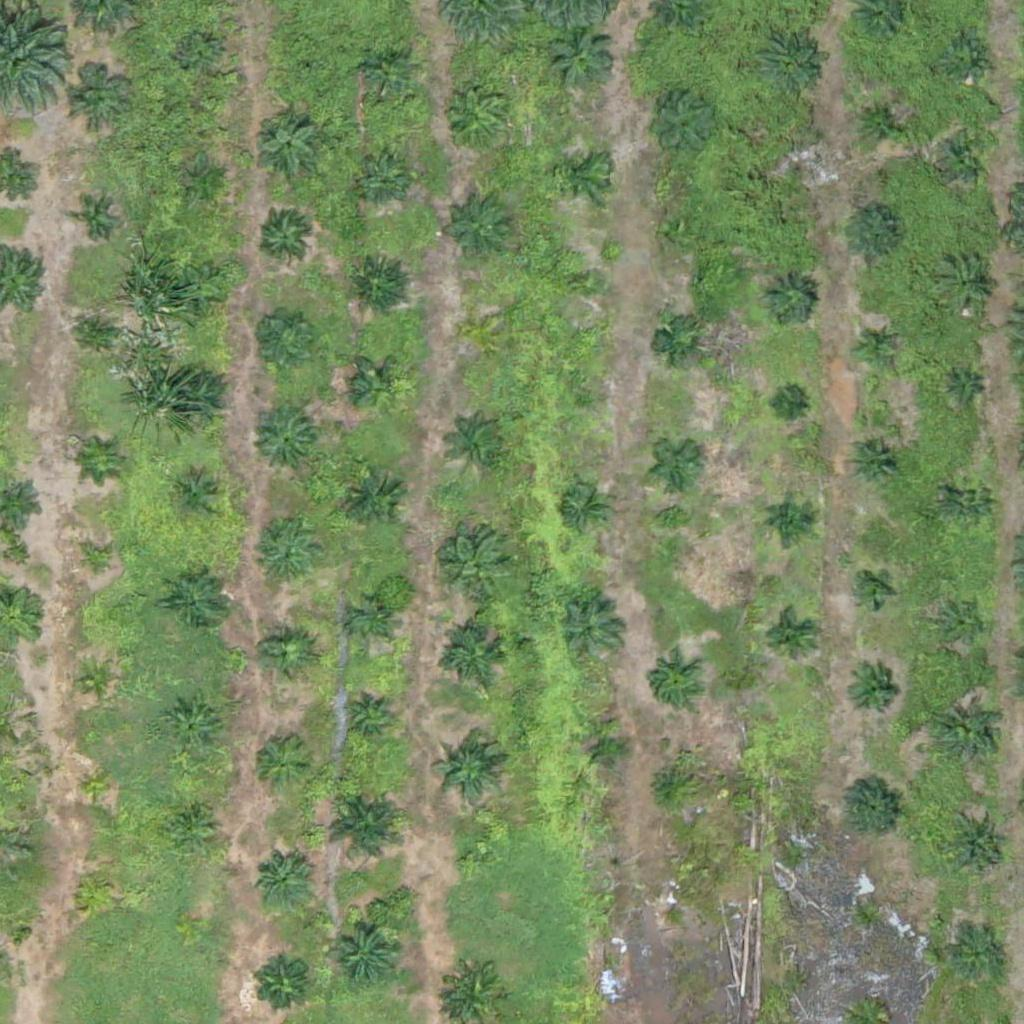Kelapa_Sawit: (323, 783, 410, 871), (431, 734, 506, 810), (245, 304, 320, 380), (326, 914, 401, 989), (643, 85, 718, 160), (249, 732, 312, 795), (254, 525, 317, 588), (252, 849, 315, 912), (946, 815, 1009, 878), (560, 598, 623, 661), (841, 774, 904, 837), (167, 568, 230, 631), (163, 698, 226, 761), (168, 368, 231, 431), (64, 67, 127, 130), (448, 197, 511, 260), (347, 252, 410, 315), (357, 42, 420, 105), (841, 202, 904, 265), (253, 409, 315, 472), (250, 952, 312, 1015), (940, 705, 1002, 768), (343, 469, 405, 532), (443, 626, 505, 689), (445, 536, 508, 598), (451, 414, 513, 477), (254, 111, 316, 174), (759, 33, 821, 96), (550, 24, 612, 87), (448, 87, 510, 150), (763, 611, 813, 662), (847, 665, 897, 716), (172, 472, 222, 523), (940, 259, 990, 310), (556, 147, 606, 198), (763, 272, 813, 323), (856, 94, 906, 145), (581, 724, 631, 775), (643, 759, 693, 810), (179, 266, 229, 317), (261, 631, 311, 681), (953, 934, 1003, 984), (945, 477, 995, 527), (765, 494, 815, 544), (653, 439, 703, 489), (353, 361, 403, 411), (560, 482, 610, 532), (648, 657, 698, 707), (166, 799, 216, 849), (261, 213, 311, 263), (355, 154, 405, 204), (655, 319, 705, 369), (940, 132, 990, 182), (939, 33, 989, 83), (851, 322, 901, 372), (934, 596, 984, 646), (850, 436, 900, 486), (342, 692, 391, 743), (86, 442, 124, 480), (663, 215, 701, 253), (854, 571, 892, 609), (179, 33, 217, 71), (186, 159, 224, 197), (79, 543, 117, 581), (77, 662, 115, 700), (79, 769, 117, 807), (75, 869, 113, 907), (352, 601, 389, 639), (77, 204, 114, 241), (81, 314, 118, 351), (786, 148, 811, 173), (952, 377, 977, 402), (775, 391, 800, 416), (574, 384, 599, 409), (574, 268, 599, 293), (469, 322, 494, 347), (658, 902, 683, 927), (459, 849, 484, 874), (296, 59, 321, 84)
